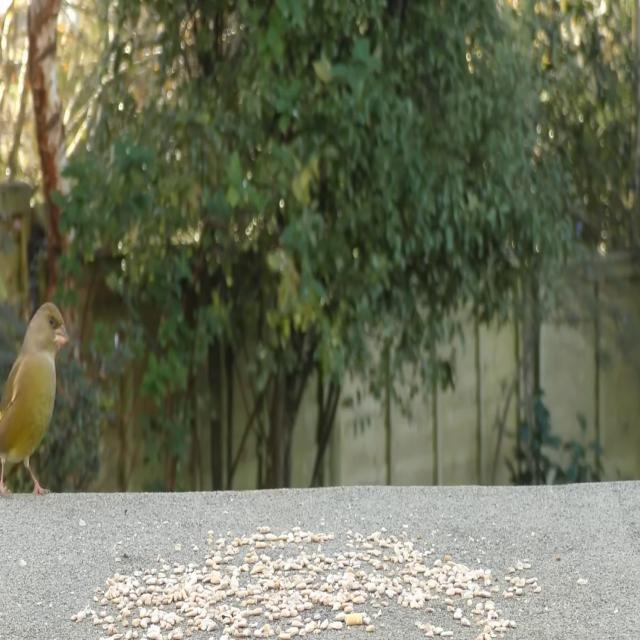beak: (54, 318, 68, 353)
bird: (0, 297, 67, 506)
